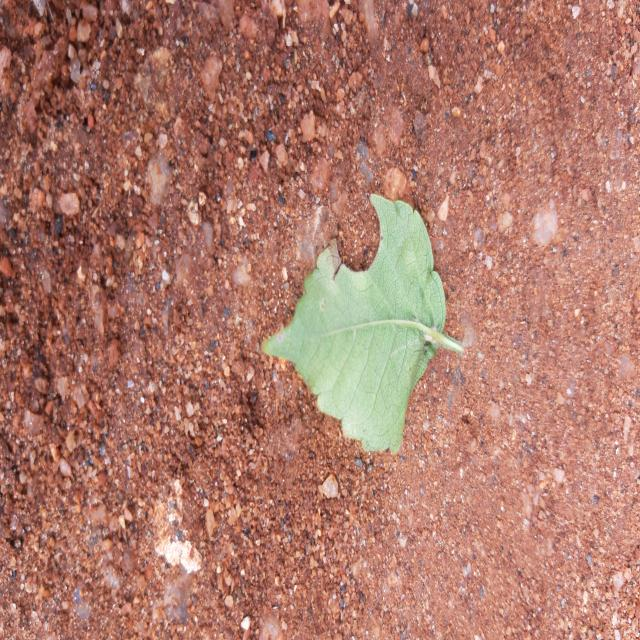defectedtecoma: (262, 196, 464, 453)
